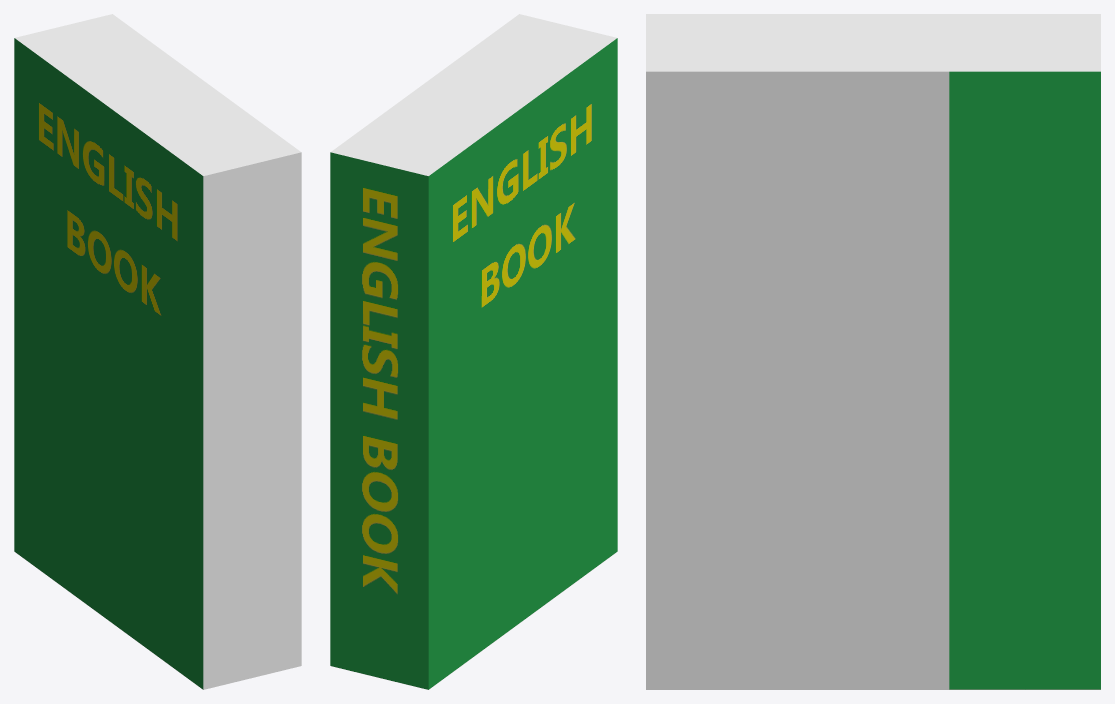
File: 英文書.fbx
The picture shows the model from 3 angles, left to right: view 1: azimuth 30°, elevation 25°; view 2: azimuth 150°, elevation 25°; view 3: azimuth 270°, elevation 25°; orthographic projection. The views are drawn at different scales.
Parts seen in each view (by area): view 1: 英文書; view 2: 英文書; view 3: 英文書.
Boxes of the visible parts, left/top/right/bottom form: 英文書: left=14, top=14, right=301, bottom=689; 英文書: left=330, top=14, right=617, bottom=689; 英文書: left=646, top=14, right=1100, bottom=689.
Bounding box in the file's own units: 3 × 15 × 10.
1 material, 1 textured.
